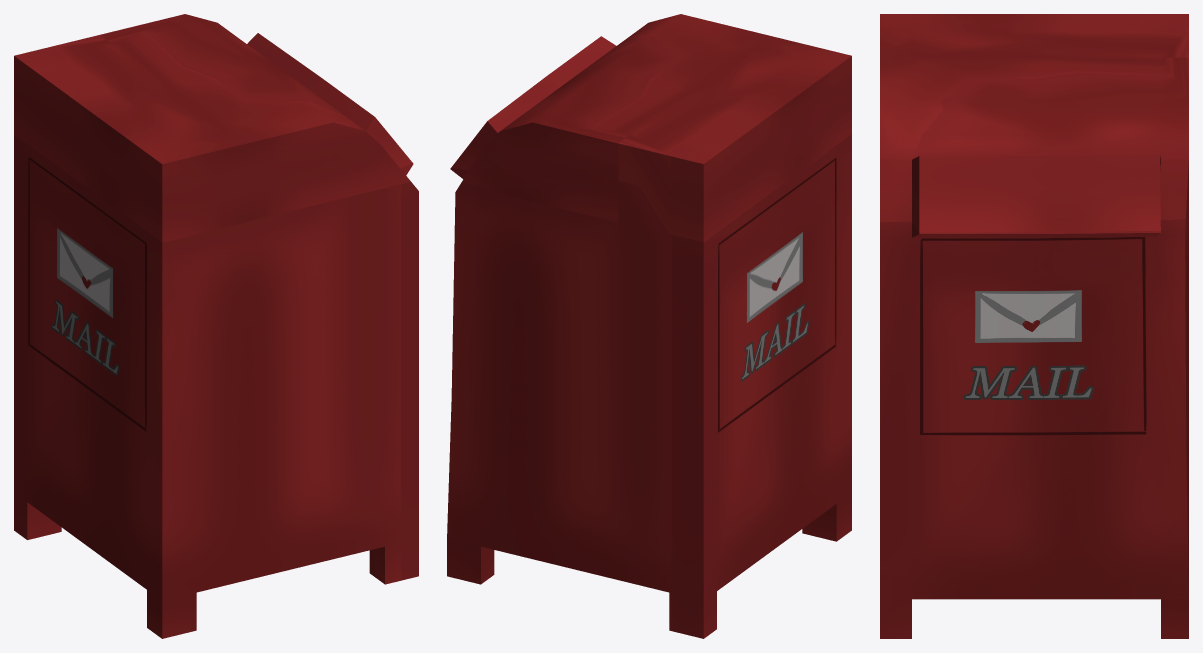
Rendered from Mailbox.fbx.
The picture shows the model from 3 angles, left to right: view 1: azimuth 30°, elevation 25°; view 2: azimuth 150°, elevation 25°; view 3: azimuth 270°, elevation 25°; orthographic projection. The views are drawn at different scales.
Visible parts, largest first — view 1: Mailbox:pCube1; view 2: Mailbox:pCube1; view 3: Mailbox:pCube1.
Part boxes in pixels (box(x1,y1,x2,y2)): Mailbox:pCube1: box(14, 14, 418, 638); Mailbox:pCube1: box(447, 14, 851, 638); Mailbox:pCube1: box(880, 14, 1188, 638).
Size of the model in its own units: 5.89 by 9.88 by 5.59.
